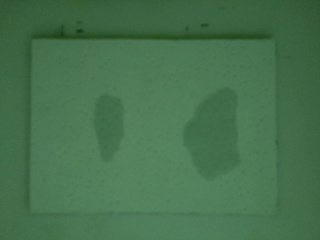Water_detected: (190, 103, 240, 166), (96, 101, 123, 155)
